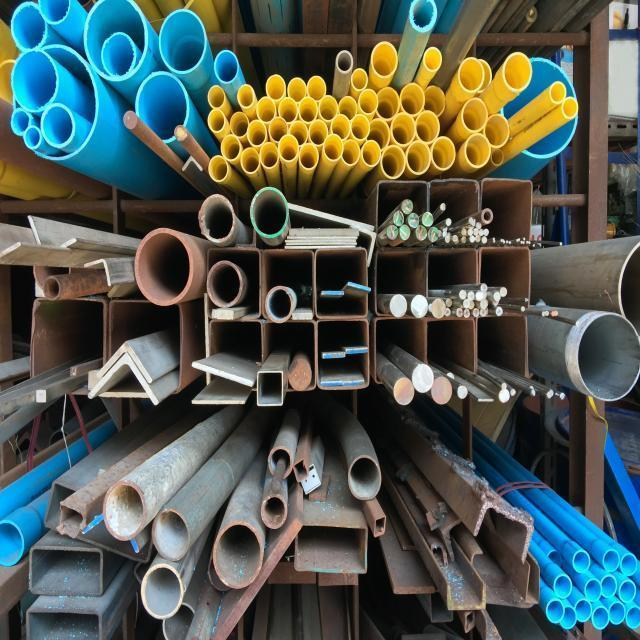pipe: (7, 46, 96, 158), (503, 60, 579, 156), (31, 300, 105, 393), (107, 300, 181, 392), (576, 312, 640, 402), (84, 0, 145, 80), (136, 230, 192, 304), (262, 250, 314, 325), (205, 249, 260, 319), (136, 72, 188, 143), (315, 249, 367, 319), (374, 321, 428, 387), (317, 320, 368, 389), (430, 181, 480, 248), (482, 179, 531, 247), (476, 318, 528, 382), (377, 183, 428, 248), (30, 550, 102, 596), (296, 525, 367, 571), (377, 250, 426, 315), (214, 523, 262, 589), (428, 251, 477, 315), (481, 247, 530, 311), (427, 318, 474, 384), (160, 8, 205, 74), (11, 50, 57, 111), (105, 483, 144, 541), (142, 566, 183, 621), (27, 613, 101, 640), (152, 510, 189, 562), (251, 188, 288, 237), (12, 3, 49, 51), (201, 194, 234, 241), (208, 260, 240, 307), (42, 104, 74, 148), (349, 456, 380, 500), (102, 34, 134, 74), (503, 53, 531, 90), (371, 41, 397, 78), (267, 288, 292, 323), (261, 493, 286, 528), (391, 112, 416, 146), (259, 372, 283, 406), (381, 145, 405, 179), (215, 51, 239, 84), (463, 98, 487, 131), (466, 134, 490, 167), (460, 58, 483, 92), (431, 138, 455, 170), (376, 87, 399, 120), (407, 141, 430, 174), (416, 111, 439, 144), (401, 83, 424, 116), (485, 115, 508, 148), (39, 0, 71, 23), (411, 0, 436, 29), (367, 119, 389, 151), (424, 85, 445, 117), (270, 447, 291, 477), (61, 504, 84, 530), (256, 97, 276, 124), (241, 147, 260, 175), (260, 142, 279, 169), (279, 97, 298, 124), (309, 120, 328, 147), (324, 134, 343, 161), (362, 140, 381, 167), (248, 120, 266, 148), (266, 75, 285, 101), (221, 135, 240, 161), (230, 112, 249, 138), (279, 135, 298, 161), (269, 117, 288, 143), (300, 144, 319, 170), (319, 95, 338, 121), (359, 89, 378, 115), (11, 110, 30, 135), (209, 156, 228, 181), (307, 76, 326, 101), (351, 115, 370, 140), (299, 97, 317, 123), (332, 115, 350, 141), (554, 574, 572, 599), (546, 598, 564, 623), (288, 77, 306, 102), (290, 121, 308, 146), (342, 140, 360, 165), (339, 96, 357, 120), (43, 276, 61, 300), (424, 47, 442, 70), (575, 599, 592, 623), (208, 85, 225, 109), (208, 109, 225, 133), (573, 550, 590, 573), (619, 580, 636, 603), (603, 549, 620, 572), (601, 574, 617, 598), (592, 607, 609, 629), (585, 579, 601, 602), (238, 85, 254, 108), (351, 68, 367, 91), (23, 128, 40, 149), (609, 602, 625, 624), (336, 50, 352, 72), (563, 97, 578, 120), (561, 607, 576, 628), (621, 554, 636, 575), (626, 606, 640, 628), (551, 82, 565, 103), (294, 462, 308, 482), (491, 149, 503, 166), (375, 516, 385, 536), (483, 211, 492, 223)
